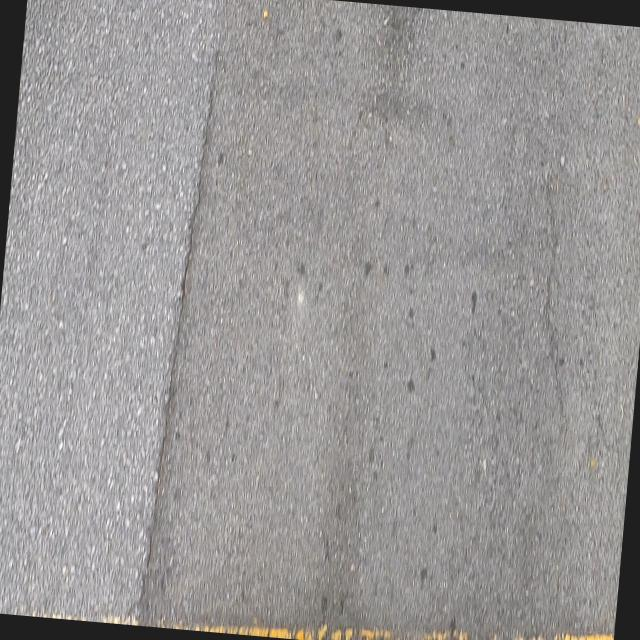Retak-Memanjang: (129, 51, 221, 621), (534, 147, 566, 423)
